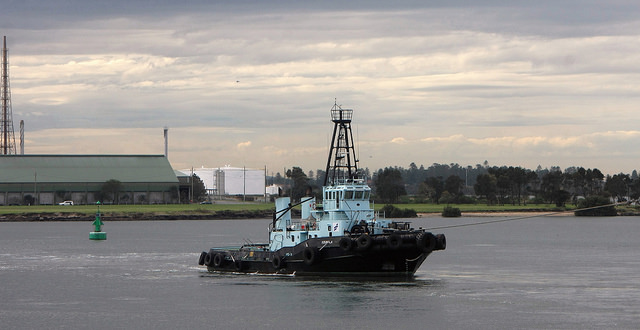tug_boat: (191, 130, 446, 277)
